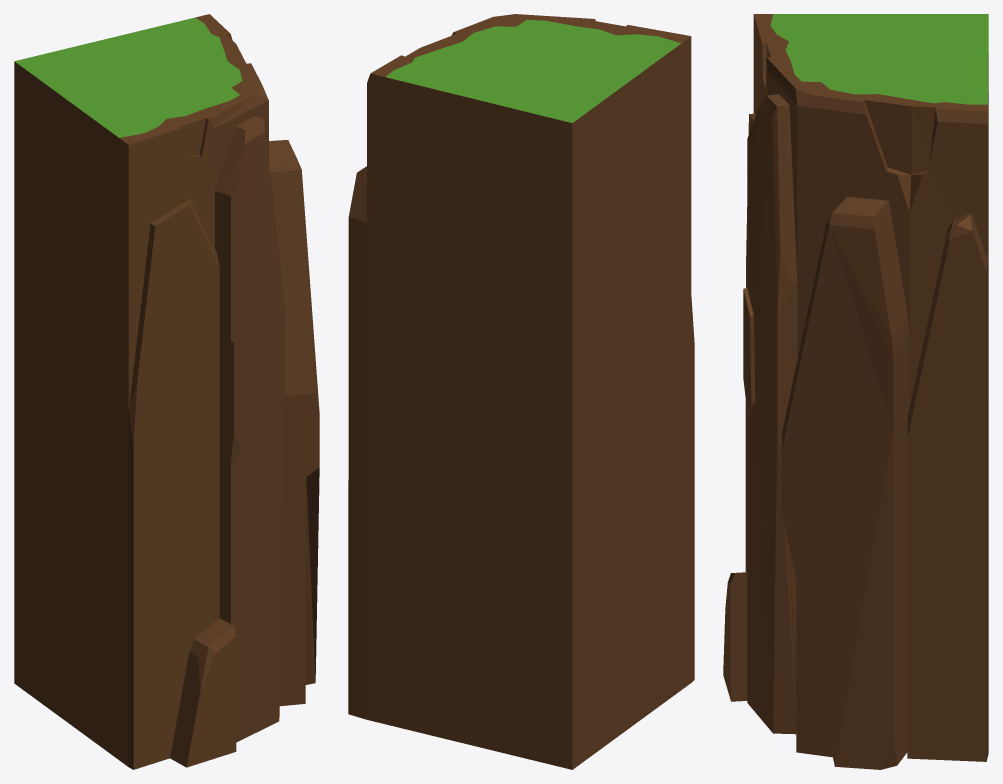
The model's file is Cliff x3 4.fbx.
3 views of the same model, side by side, from view 1: azimuth 30°, elevation 25°; view 2: azimuth 150°, elevation 25°; view 3: azimuth 270°, elevation 25° (orthographic). The views are drawn at different scales.
Parts seen in each view (by area): view 1: Cliff x3 4; view 2: Cliff x3 4; view 3: Cliff x3 4.
Boxes of the visible parts, x1,y1,x2,y2 form: Cliff x3 4: [14, 14, 319, 769]; Cliff x3 4: [348, 14, 694, 769]; Cliff x3 4: [723, 14, 988, 769].
Bounding box in the file's own units: 237 × 600 × 226.
